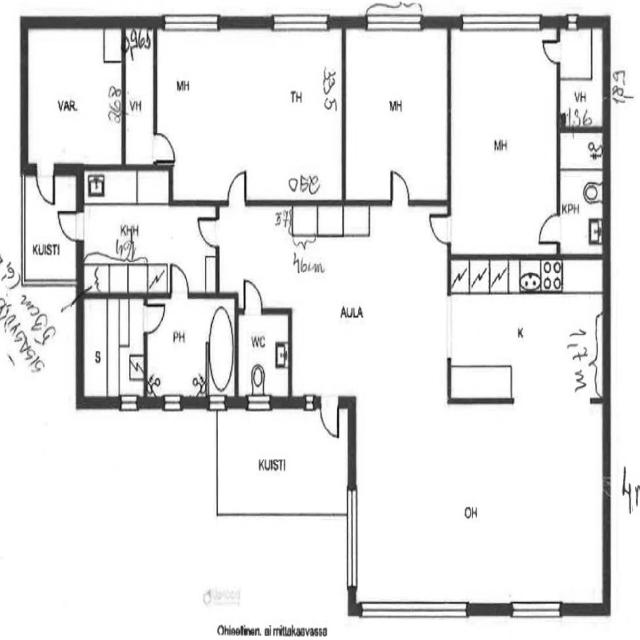door: (144, 295, 236, 404), (559, 129, 606, 259), (54, 206, 87, 248), (32, 163, 60, 212), (534, 208, 566, 250), (317, 394, 342, 442), (386, 165, 413, 208), (140, 298, 168, 338), (426, 208, 454, 248), (149, 129, 178, 166), (167, 260, 192, 302), (194, 214, 222, 251), (240, 277, 264, 318), (226, 168, 250, 208), (539, 34, 565, 69)
window: (454, 1, 545, 39), (358, 593, 473, 619), (359, 1, 429, 38), (266, 5, 334, 37), (160, 7, 225, 34), (17, 169, 32, 279), (507, 596, 569, 622), (345, 485, 359, 597), (442, 288, 456, 366), (242, 392, 276, 417), (158, 391, 186, 416), (117, 392, 142, 418), (205, 393, 229, 417), (562, 15, 582, 36)
zone: (348, 403, 610, 608), (231, 208, 448, 402), (148, 24, 344, 205), (448, 23, 558, 258), (450, 254, 607, 405), (343, 21, 450, 208), (79, 176, 216, 294), (23, 26, 122, 169), (146, 294, 237, 405), (80, 292, 147, 404), (559, 128, 606, 257), (559, 27, 607, 131), (122, 26, 156, 169), (238, 311, 290, 403)
